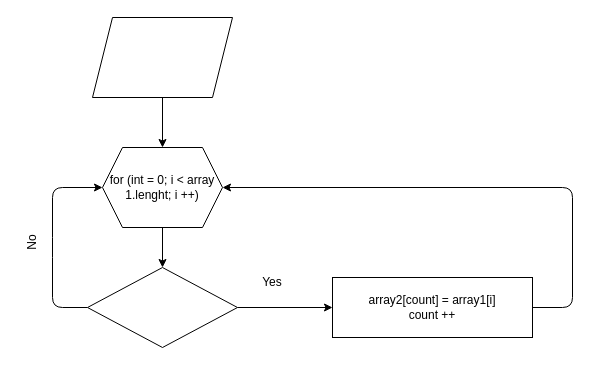
Image size: 598x365. Some labels were removed from this diagram. Each missing label, with the box of its shape:
if (array1[i].lenght <=3): (86, 266, 238, 348)
string array 1 string array 2 int count = 0: (92, 16, 232, 98)
